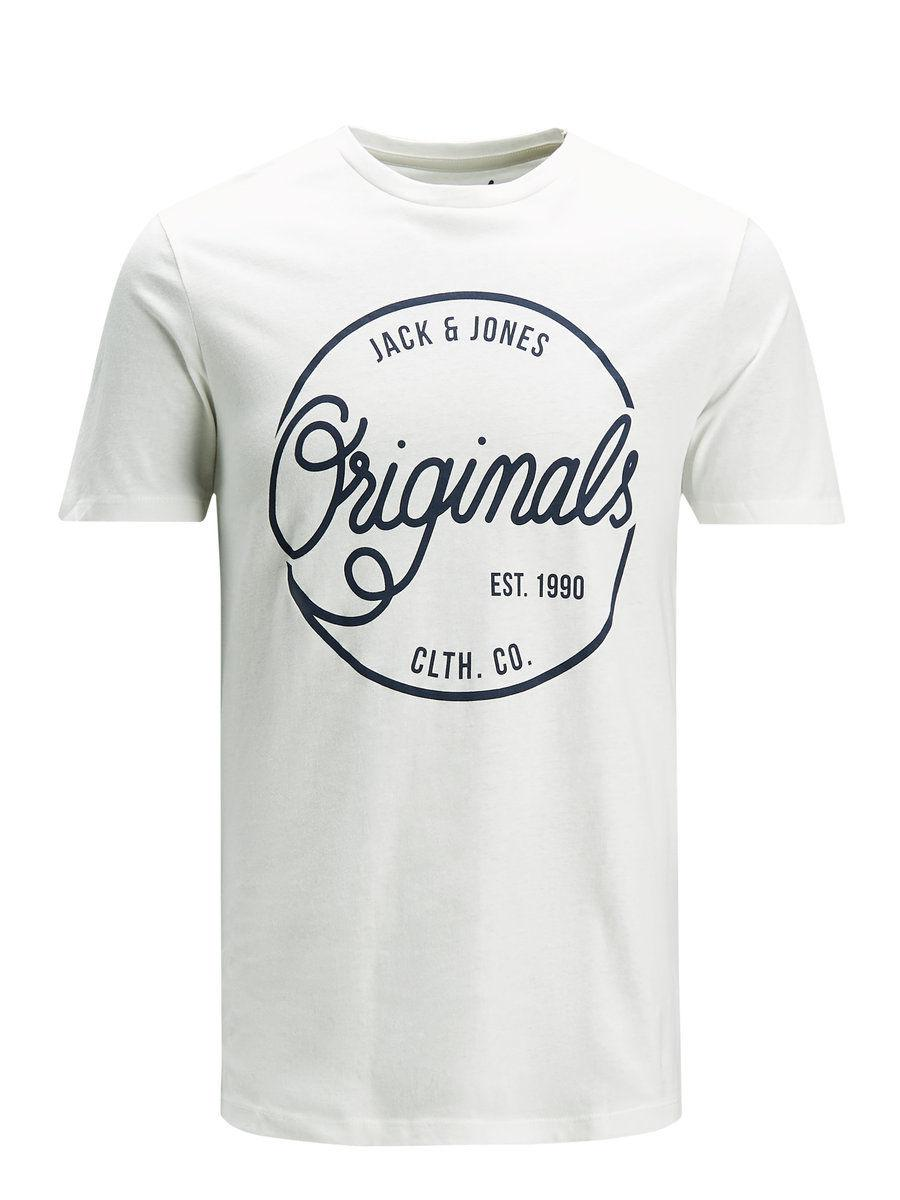teeshirt: (76, 120, 867, 1200)
